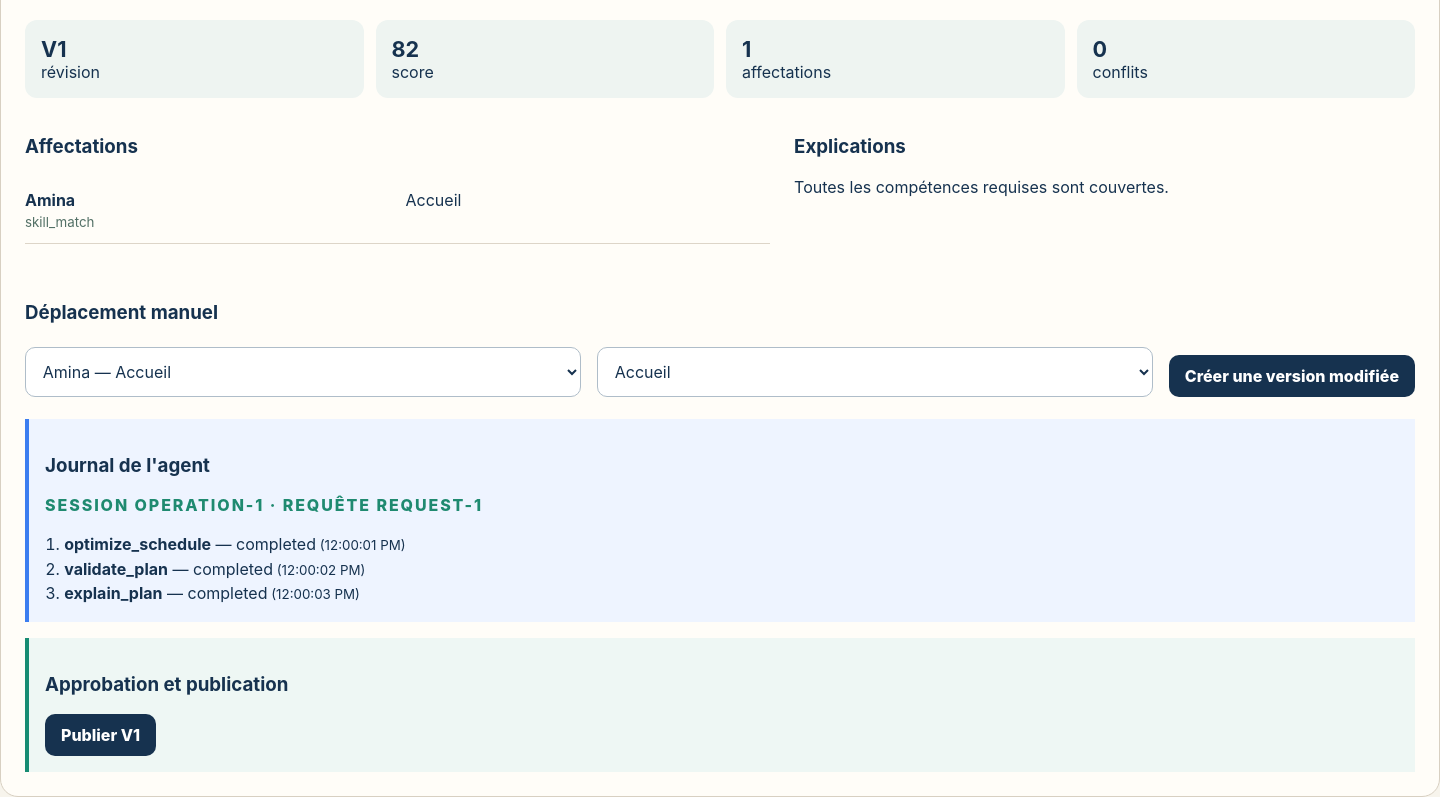
ScheduleBoard › publie une version brouillon puis affiche l’outbox après envoi
The width and height of the screenshot is (1440, 797).
(page scrolled)
Click the button "Publier V1".
click(101, 735)  # box [45,714,156,756]
(page scrolled)
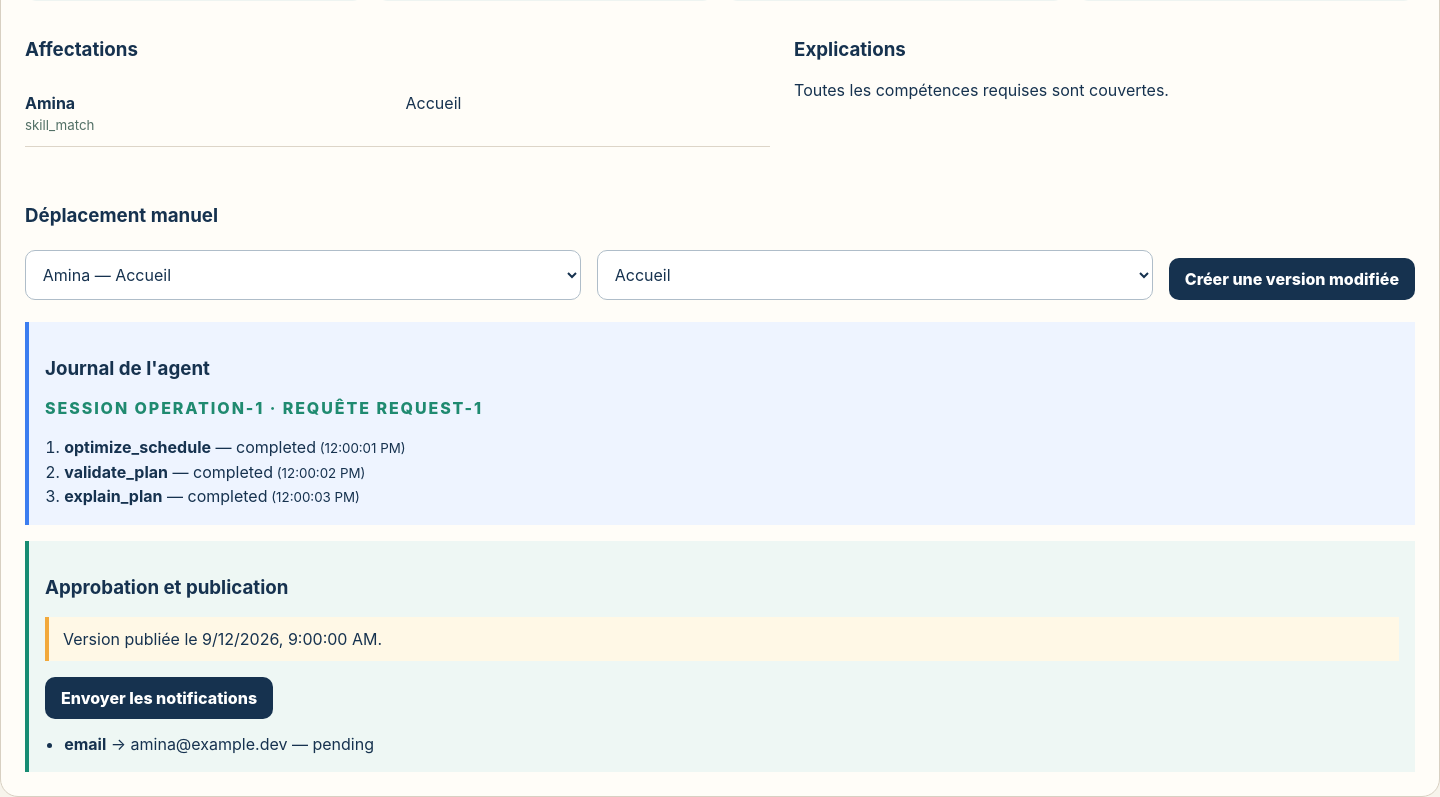
Check: the list item "email → amina@example.dev — pending" is shown, box [64,734,374,754]
Click the button "Envoyer les notifications".
click(159, 698)  # box [45,677,273,719]
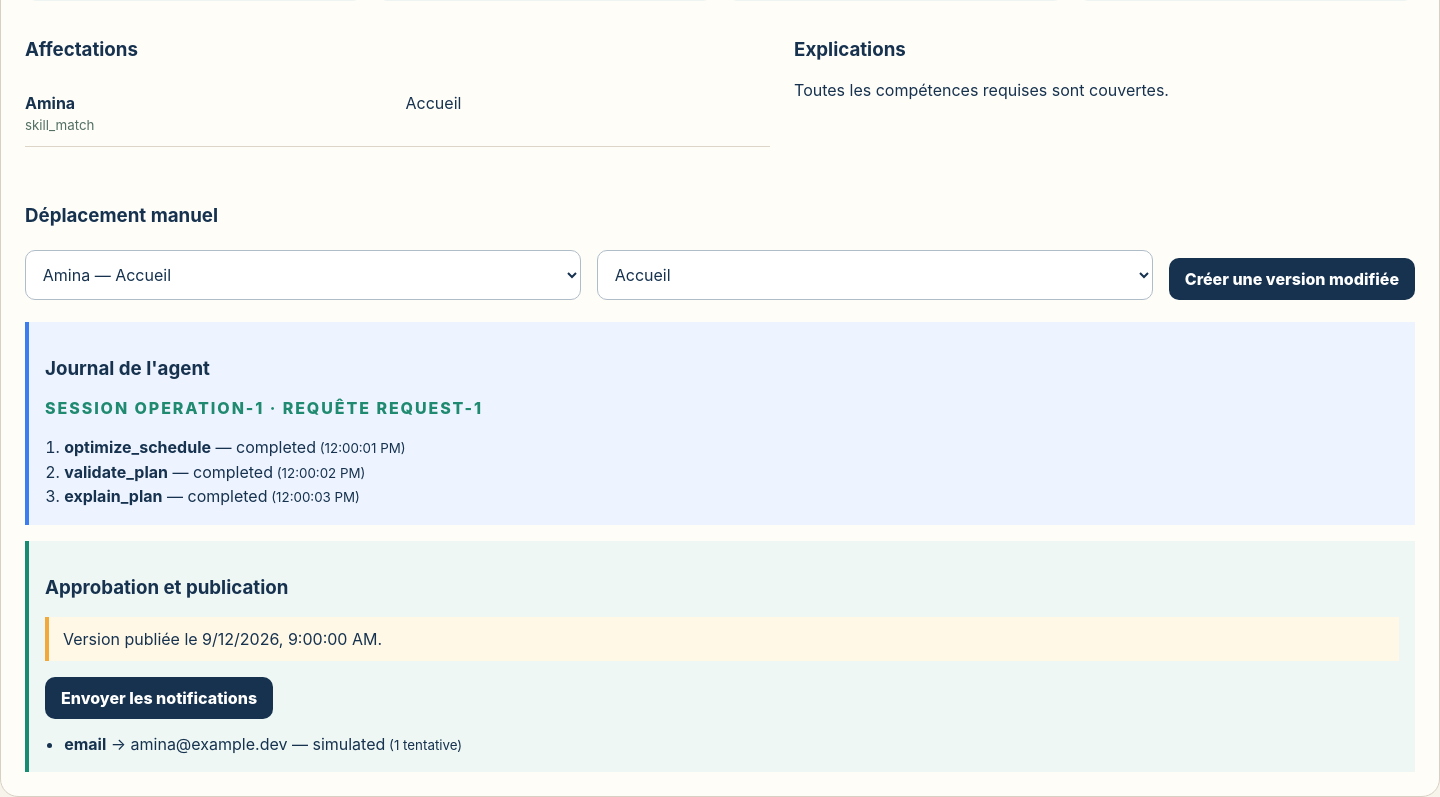
Check: the list item "email → amina@example.dev — simulated (1 tentative)" is shown, box [64,734,462,754]
